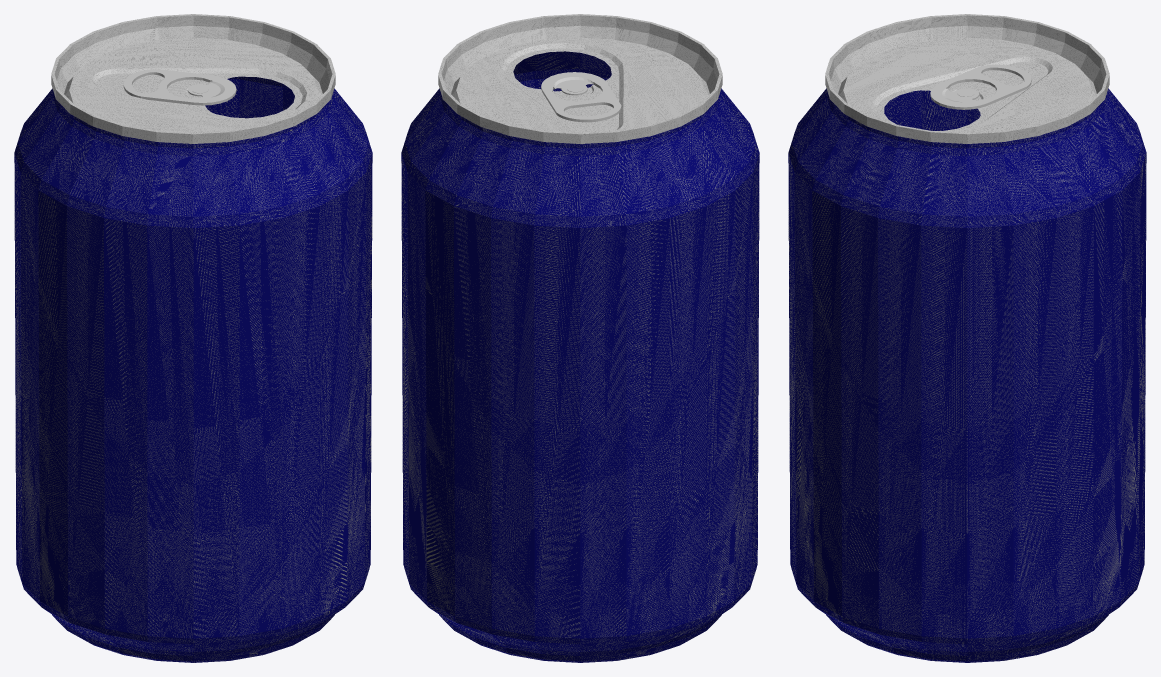
3 views of the same model, side by side, from view 1: azimuth 30°, elevation 25°; view 2: azimuth 150°, elevation 25°; view 3: azimuth 270°, elevation 25° (orthographic).
Visible parts, largest first — view 1: mesh1_mesh1-geometry, mesh4_mesh4-geometry; view 2: mesh1_mesh1-geometry, mesh4_mesh4-geometry; view 3: mesh1_mesh1-geometry, mesh4_mesh4-geometry.
Boxes of the visible parts, x1=… form: mesh1_mesh1-geometry: x1=14, y1=14, x2=372, y2=662; mesh4_mesh4-geometry: x1=123, y1=69, x2=236, y2=105; mesh1_mesh1-geometry: x1=401, y1=14, x2=759, y2=662; mesh4_mesh4-geometry: x1=541, y1=72, x2=621, y2=122; mesh1_mesh1-geometry: x1=788, y1=14, x2=1146, y2=662; mesh4_mesh4-geometry: x1=930, y1=64, x2=1031, y2=109.
Size of the model in its own units: 0.4631 by 0.7556 by 0.4631.
